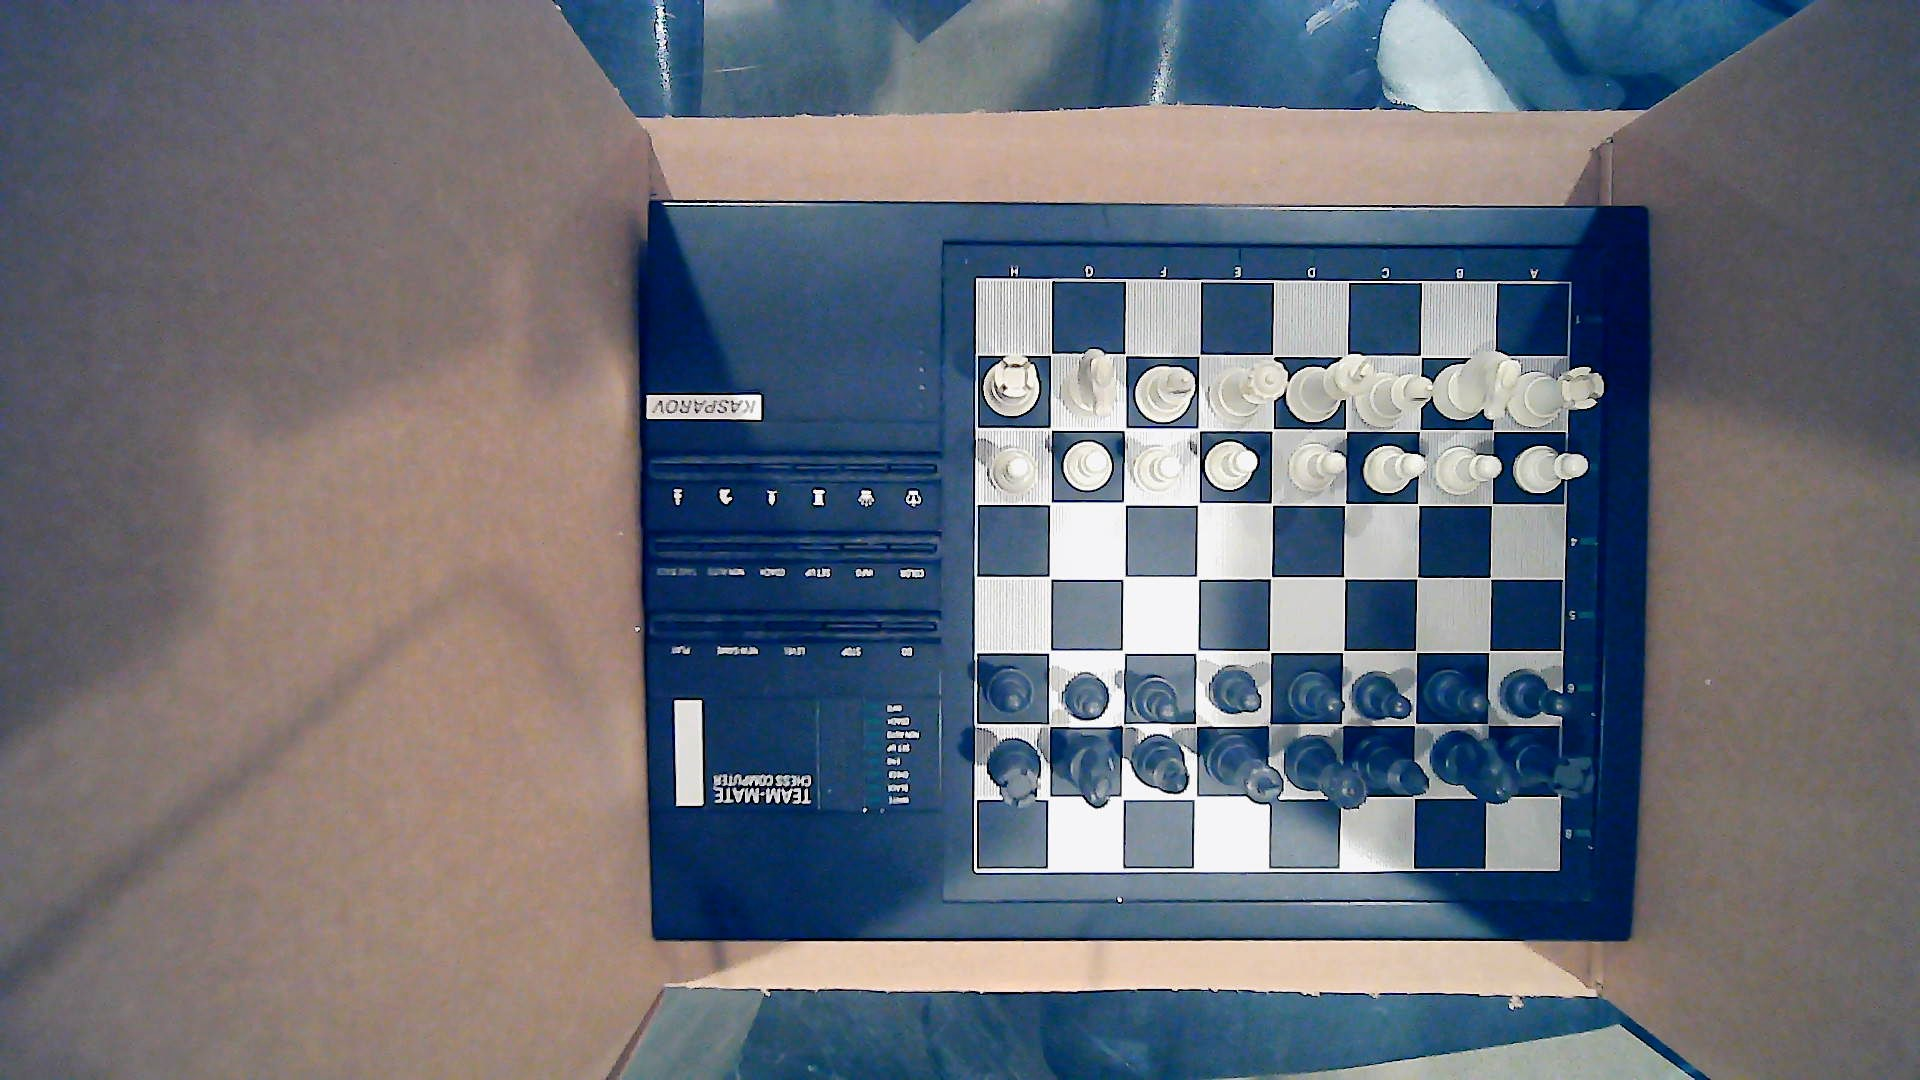bbishop: (1353, 733, 1429, 795), (1131, 736, 1189, 795)
bking: (1204, 735, 1284, 804)
bknight: (1429, 731, 1516, 804), (1058, 736, 1118, 808)
bpawn: (1501, 669, 1573, 719), (1422, 669, 1490, 721), (1352, 671, 1414, 721), (1288, 670, 1346, 723), (984, 667, 1036, 717), (1208, 667, 1262, 716), (1059, 673, 1110, 723), (1130, 675, 1179, 723)
bqueen: (1283, 736, 1369, 810)
brook: (1509, 733, 1596, 800), (986, 738, 1042, 808)
wbishop: (1357, 371, 1433, 429), (1133, 364, 1193, 423)
wking: (1287, 353, 1377, 423)
wknight: (1433, 349, 1522, 421), (1060, 347, 1120, 421)
wpawn: (1513, 444, 1589, 495), (1432, 444, 1503, 496), (1362, 446, 1427, 495), (1287, 443, 1346, 495), (1204, 442, 1259, 492), (1062, 440, 1114, 492), (986, 447, 1040, 495), (1133, 447, 1185, 495)
wqueen: (1207, 357, 1288, 426)
wrook: (1520, 367, 1605, 429), (982, 355, 1042, 418)
